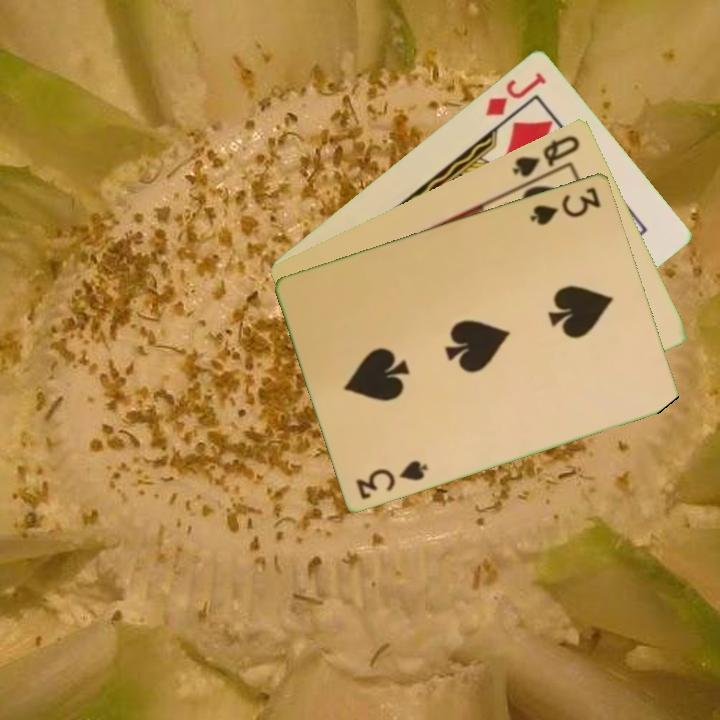3s: (352, 456, 431, 502), (526, 183, 604, 228)
Jd: (481, 68, 549, 119)
Qs: (508, 131, 583, 179)
